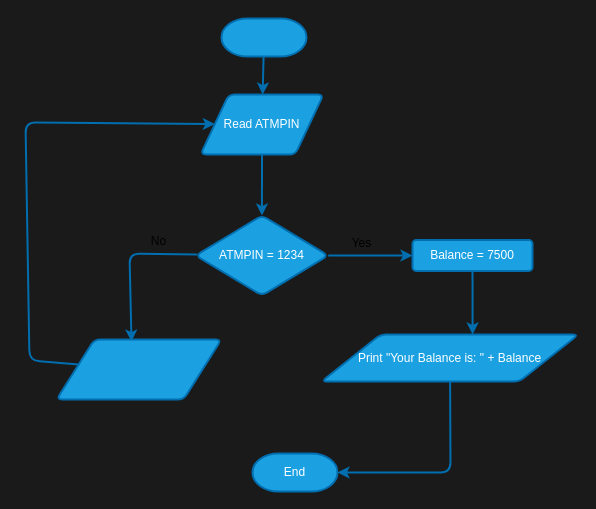
Image size: 596x509. Some labels were removed from this diagram. The shapes that lost their labels are listed below. From the top down, each one's centre as x and y in pixels, then its label:
(263,37): Start
(138,369): Print "Wrong PIN"
